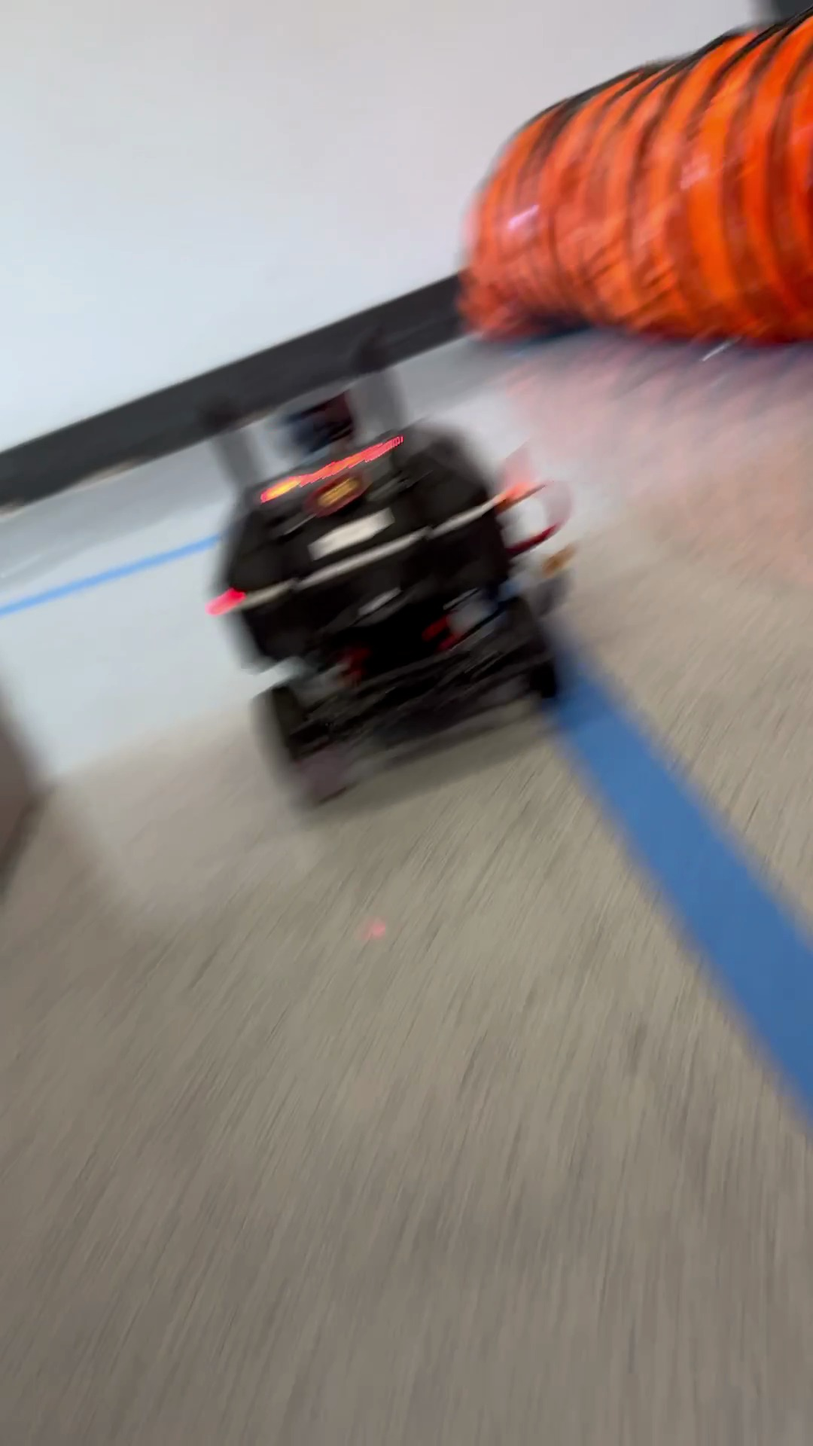racecar: (205, 379, 570, 804)
